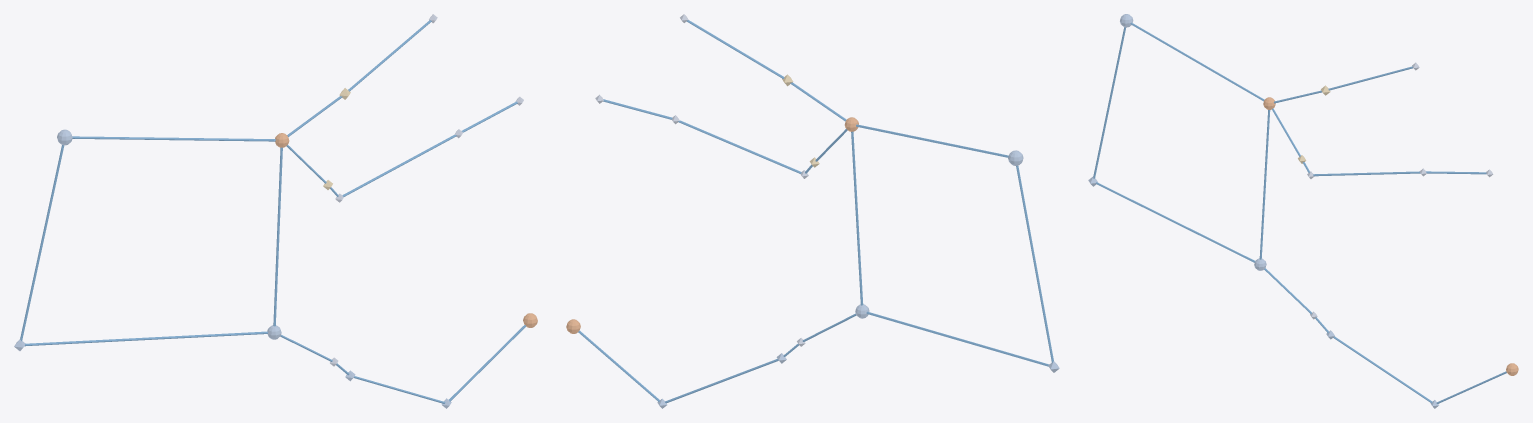
Rendered from constellation-peg.glb.
3 views of the same model, side by side, from view 1: azimuth 30°, elevation 25°; view 2: azimuth 150°, elevation 25°; view 3: azimuth 330°, elevation 25° (orthographic). The views are drawn at different scales.
Bounding box in the file's own units: 3.82 × 2.87 × 0.5063.
